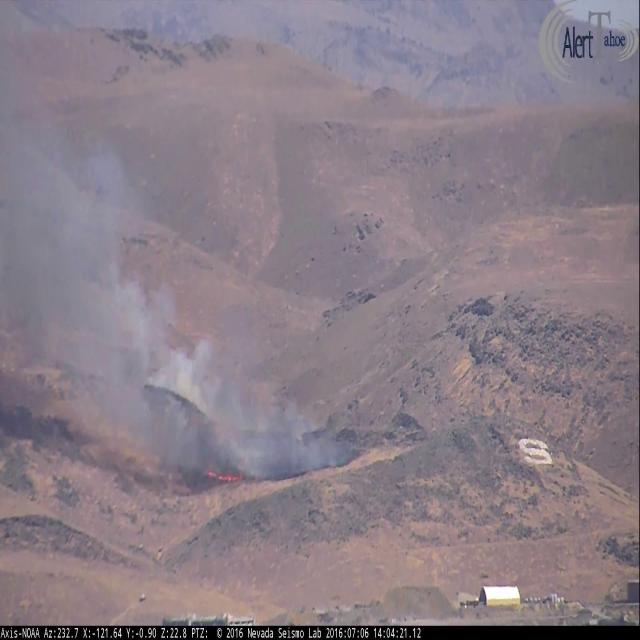smoke: (20, 121, 380, 495)
